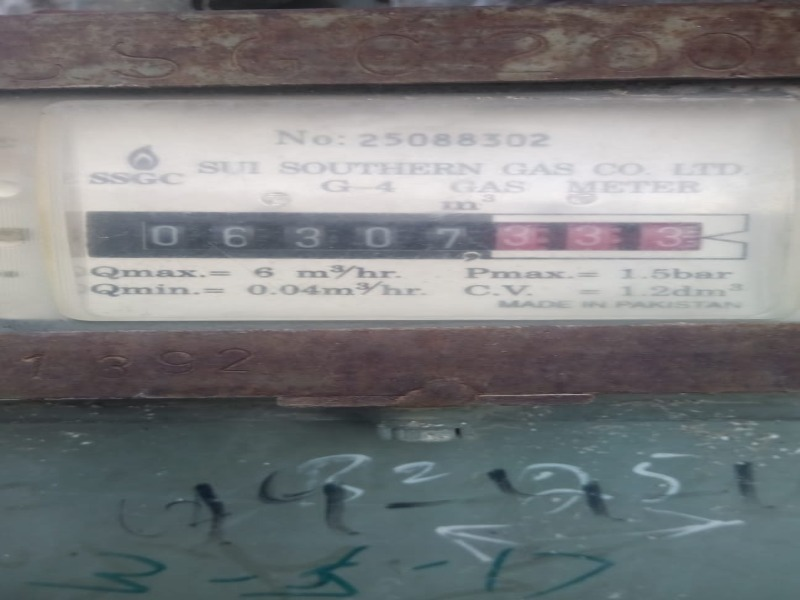ssgc: (131, 207, 722, 263)
